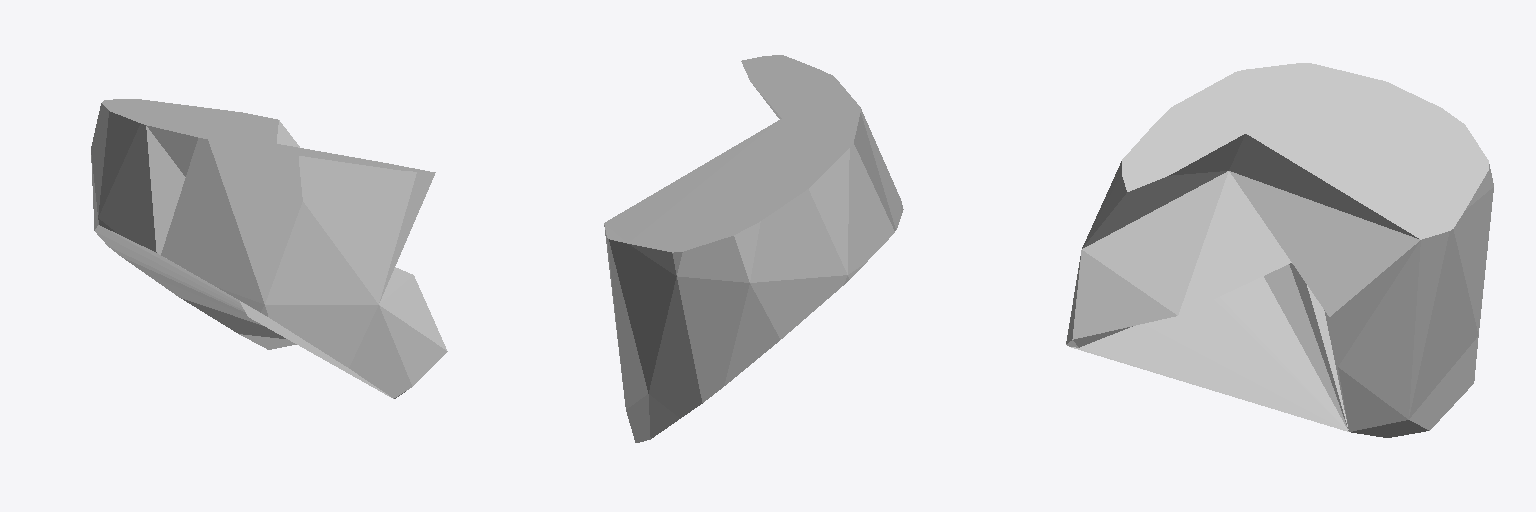
The model's file is MiddleLob.obj.
3 renders of one model, left to right at view 1: azimuth 30°, elevation 25°; view 2: azimuth 150°, elevation 25°; view 3: azimuth 270°, elevation 25°, orthographic.
Visible parts, largest first — view 1: LungRightLow_Icosphere.000; view 2: LungRightLow_Icosphere.000; view 3: LungRightLow_Icosphere.000.
Boxes of the visible parts, x1,y1,x2,y2 form: LungRightLow_Icosphere.000: [91, 99, 447, 398]; LungRightLow_Icosphere.000: [604, 55, 903, 442]; LungRightLow_Icosphere.000: [1066, 63, 1493, 437].
Size of the model in its own units: 0.2438 by 0.293 by 0.3795.